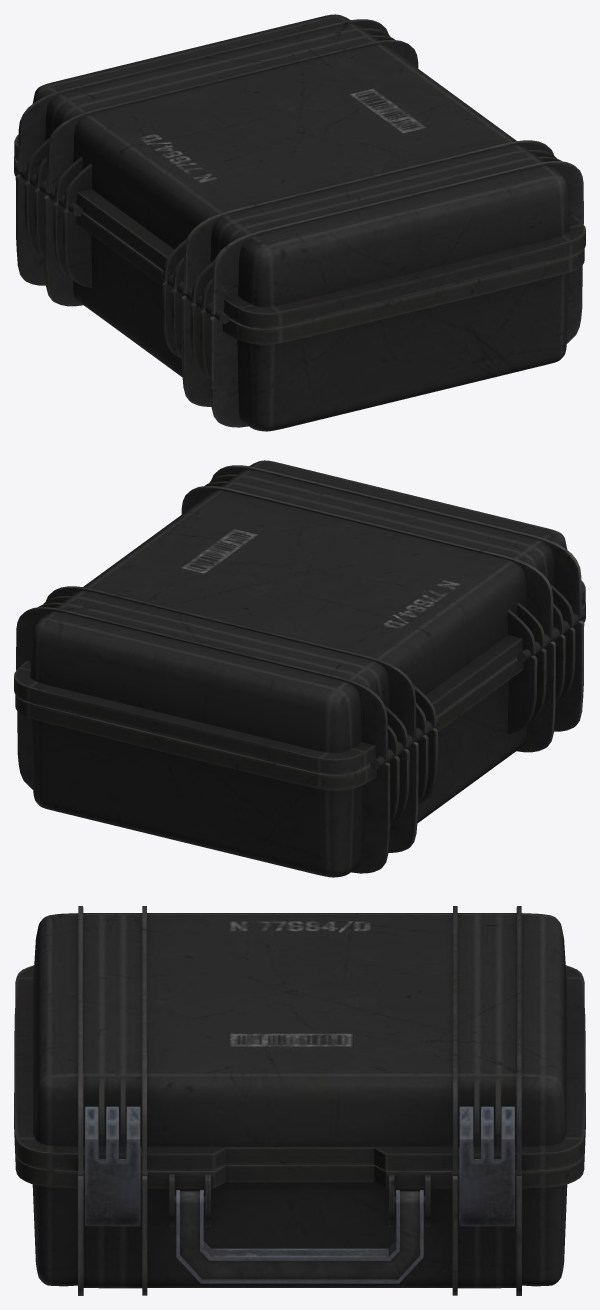
The model's file is case_mini_lite.glb.
The picture shows the model from 3 angles, top to bottom: view 1: azimuth 30°, elevation 25°; view 2: azimuth 150°, elevation 25°; view 3: azimuth 270°, elevation 25°; orthographic projection. The views are drawn at different scales.
Visible parts, largest first — view 1: lid, body; view 2: lid, body; view 3: lid, body.
Part boxes in pixels (left/top/right/bottom): lid: left=14, top=14, right=585, bottom=328; body: left=14, top=156, right=584, bottom=431; lid: left=14, top=460, right=585, bottom=774; body: left=15, top=602, right=585, bottom=877; lid: left=15, top=906, right=584, bottom=1226; body: left=14, top=1008, right=585, bottom=1295.
Size of the model in its own units: 0.4977 by 0.2456 by 0.5848.
Materials: 1 (1 with a texture image).
